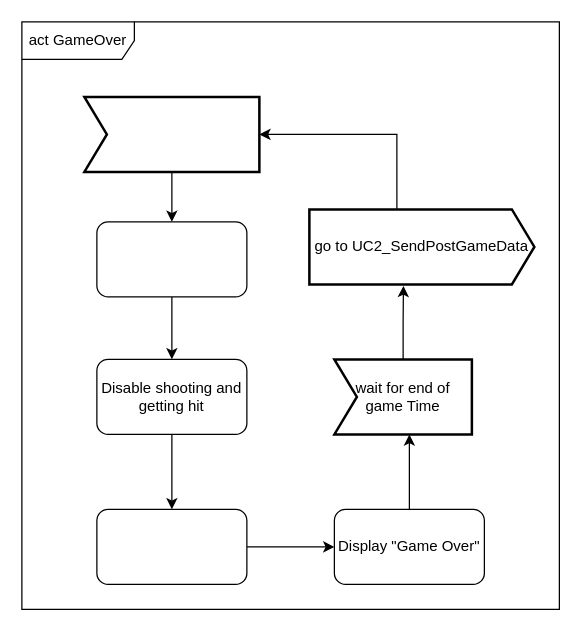
The diagram is 581 pixels wide and 631 high, and some of its shapes have lost their labels. Each missing label, with the centre of its shape:
"Play Game Over sound" belongs at (x=171, y=259).
"Send Game Over Message To Leader" belongs at (x=171, y=546).
"wait for UC041_GameState" belongs at (x=171, y=133).
